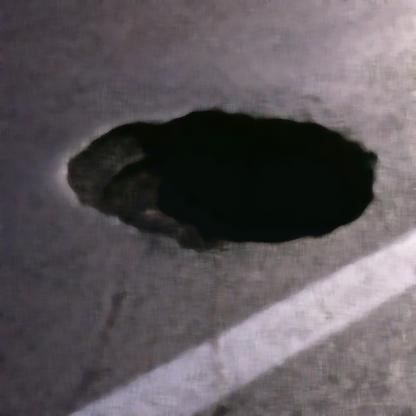Potholes: (63, 104, 400, 253)
